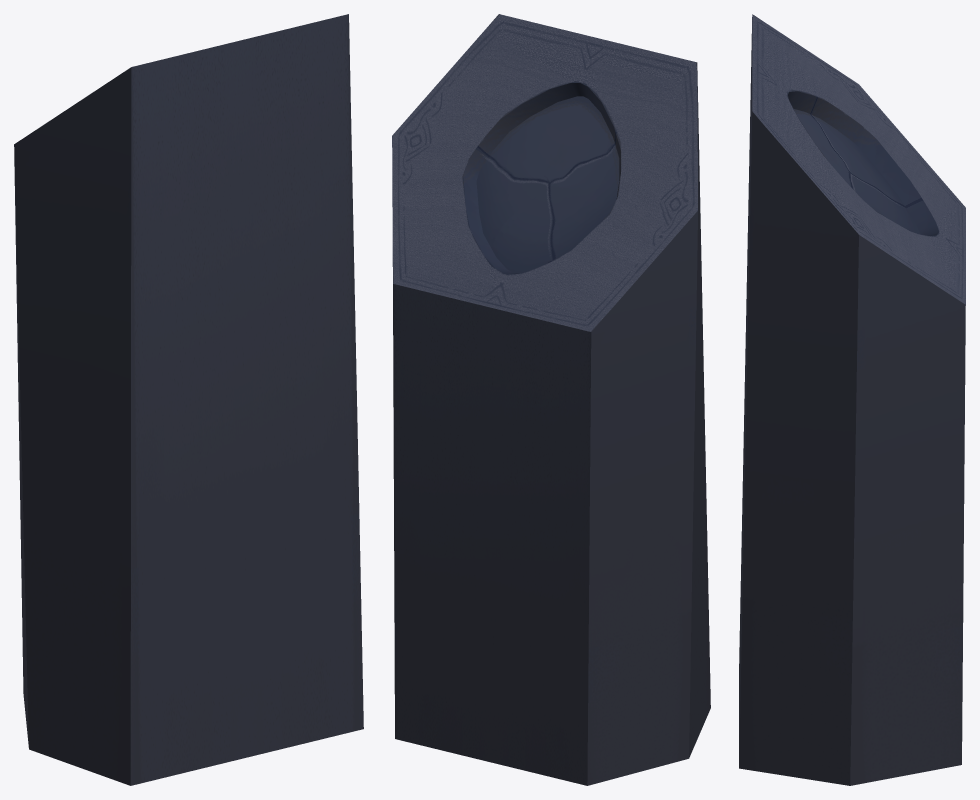
The model's file is Podium.fbx.
3 renders of one model, left to right at view 1: azimuth 30°, elevation 25°; view 2: azimuth 150°, elevation 25°; view 3: azimuth 270°, elevation 25°, orthographic. The views are drawn at different scales.
Visible parts, largest first — view 1: Podium_New; view 2: Podium_New; view 3: Podium_New.
Boxes of the visible parts, bbox=[...] form: Podium_New: bbox=[14, 14, 363, 785]; Podium_New: bbox=[392, 14, 710, 785]; Podium_New: bbox=[739, 14, 965, 785].
Bounding box in the file's own units: 0.5375 × 0.3422 × 1.09.
